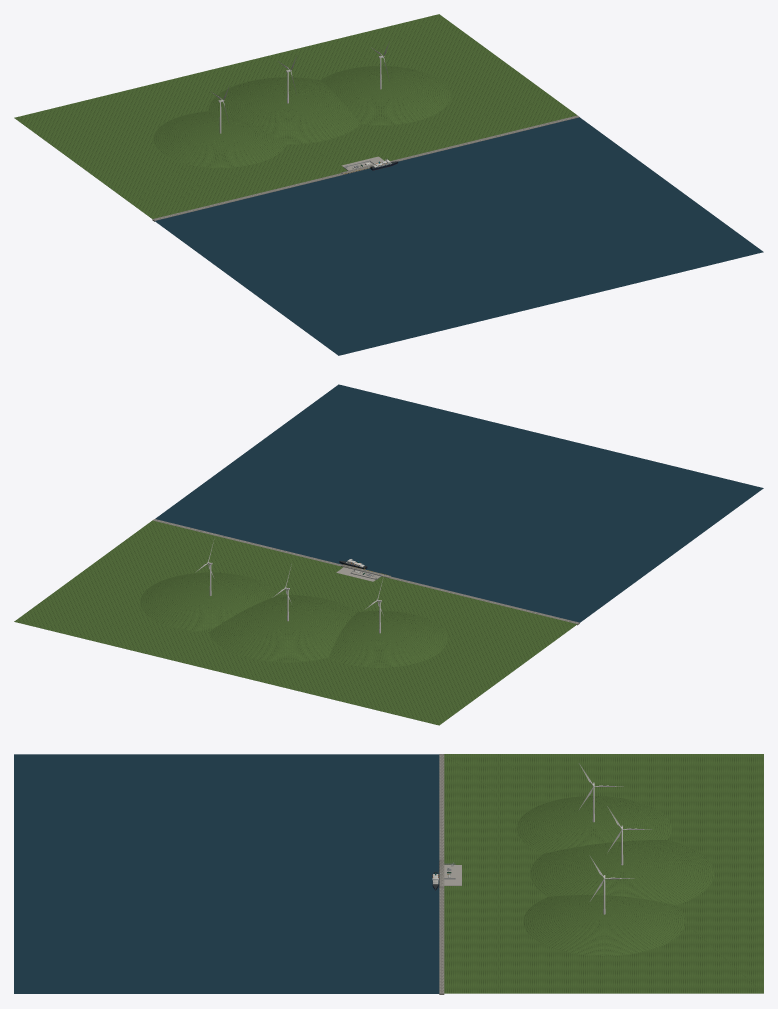
File: hydrogen_microgrid.glb
The picture shows the model from 3 angles, top to bottom: view 1: azimuth 30°, elevation 25°; view 2: azimuth 150°, elevation 25°; view 3: azimuth 270°, elevation 25°; orthographic projection. The views are drawn at different scales.
Visible parts, largest first — view 1: Terrain; view 2: Terrain; view 3: Terrain.
Part boxes in pixels (x1,y1,x2,y2): Terrain: (14,14,763,355); Terrain: (14,384,763,725); Terrain: (14,754,763,994).
Size of the model in its own units: 1600 by 220 by 2116.
Materials: 32 (28 with a texture image).
